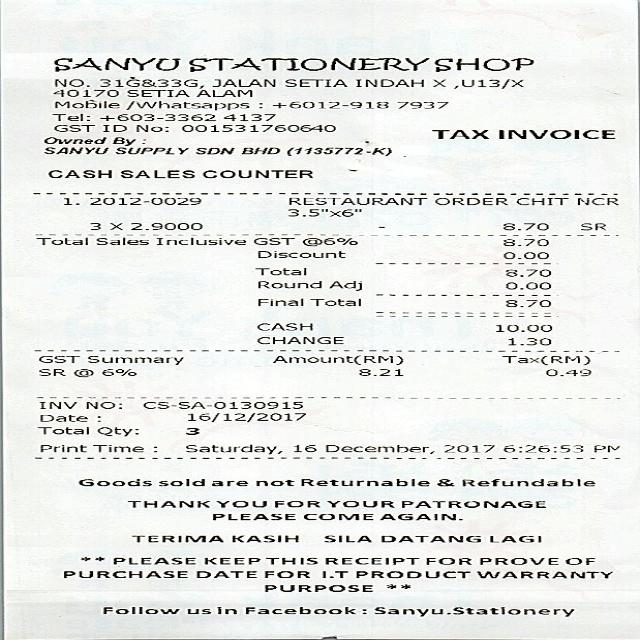text: (51, 57, 534, 72), (372, 606, 572, 616), (271, 354, 401, 364), (286, 196, 425, 205), (123, 100, 247, 110), (185, 412, 304, 422), (498, 128, 613, 138), (140, 401, 301, 408), (475, 570, 611, 578), (179, 124, 334, 131), (324, 444, 432, 454), (183, 443, 280, 454), (461, 478, 594, 486), (300, 478, 428, 486), (399, 500, 544, 507), (90, 196, 201, 205), (62, 570, 186, 578), (201, 169, 311, 178), (98, 78, 195, 88), (270, 100, 387, 108), (97, 113, 214, 121), (255, 297, 359, 306), (354, 570, 468, 578), (500, 354, 590, 364), (244, 606, 354, 614), (86, 355, 182, 364), (263, 584, 371, 592), (289, 147, 390, 155), (322, 556, 418, 564), (252, 265, 304, 279), (451, 78, 522, 88), (379, 535, 479, 542), (431, 197, 508, 206), (128, 221, 202, 230), (378, 512, 461, 520), (211, 512, 294, 520), (119, 169, 192, 178), (500, 444, 581, 452), (112, 556, 193, 564), (130, 535, 222, 542), (477, 556, 556, 564), (352, 78, 422, 87), (100, 606, 178, 614), (155, 237, 244, 244), (255, 250, 344, 257), (255, 336, 342, 343), (76, 478, 150, 486), (53, 99, 118, 108), (90, 443, 155, 452), (114, 146, 187, 154), (125, 500, 208, 507), (46, 169, 110, 178), (256, 279, 320, 288), (302, 512, 371, 520), (301, 236, 356, 246), (50, 88, 116, 96), (230, 534, 296, 542), (430, 129, 487, 138), (282, 78, 346, 86), (42, 146, 106, 154), (124, 88, 187, 96), (211, 78, 273, 86), (194, 570, 256, 578), (93, 236, 147, 245), (324, 500, 392, 507), (514, 197, 566, 206), (502, 298, 548, 308), (194, 88, 250, 96), (254, 322, 310, 330), (494, 323, 550, 331), (42, 136, 104, 143), (500, 222, 548, 231), (202, 556, 256, 564), (95, 426, 137, 436), (395, 100, 447, 108), (222, 113, 274, 121), (35, 426, 87, 434), (39, 443, 85, 452), (442, 444, 493, 452), (266, 556, 315, 564), (38, 414, 86, 422), (576, 197, 617, 206), (501, 238, 547, 246), (543, 368, 589, 376), (157, 478, 203, 486), (34, 237, 86, 244), (504, 268, 549, 276), (424, 556, 469, 564), (263, 570, 308, 578), (488, 535, 539, 542), (215, 500, 265, 507), (327, 280, 360, 290), (323, 535, 370, 542), (508, 337, 549, 345), (504, 282, 549, 289), (273, 500, 318, 507), (239, 146, 278, 154), (254, 478, 293, 486), (357, 368, 401, 375), (286, 208, 320, 217), (51, 113, 88, 121), (251, 237, 293, 244), (36, 355, 78, 362), (192, 147, 233, 154), (53, 78, 88, 86), (576, 222, 607, 231), (501, 252, 547, 258), (37, 401, 76, 408), (53, 124, 90, 131), (85, 401, 120, 408), (110, 136, 134, 146), (324, 209, 354, 217), (564, 556, 594, 564), (134, 124, 166, 131), (102, 368, 134, 375), (209, 480, 246, 486), (319, 570, 346, 578), (592, 444, 618, 452), (36, 368, 64, 375), (72, 368, 91, 377), (101, 124, 124, 131), (292, 444, 314, 451), (215, 606, 234, 614), (85, 222, 101, 231), (435, 478, 453, 486), (109, 221, 123, 231), (60, 197, 74, 206), (186, 608, 205, 614), (431, 78, 444, 86), (183, 427, 197, 434), (149, 126, 166, 131), (272, 126, 284, 131), (94, 415, 99, 421), (360, 608, 365, 614)
